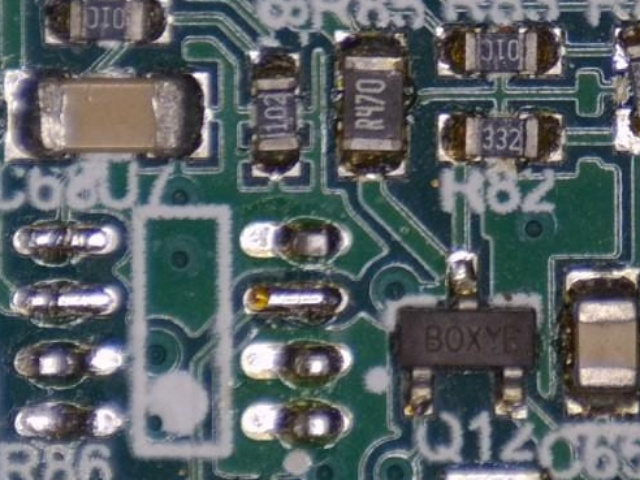pcb_defect: (611, 25, 640, 155), (640, 231, 640, 420)
